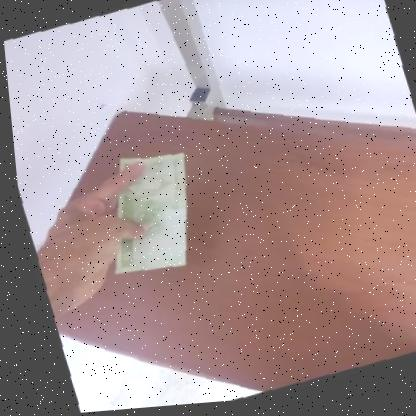fifty-back-vef: (74, 139, 213, 289)
